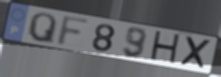8: (92, 23, 117, 53)
9: (121, 26, 147, 60)
F: (54, 15, 93, 49)
H: (148, 30, 182, 67)
Q: (26, 12, 58, 46)
X: (178, 35, 213, 72)
